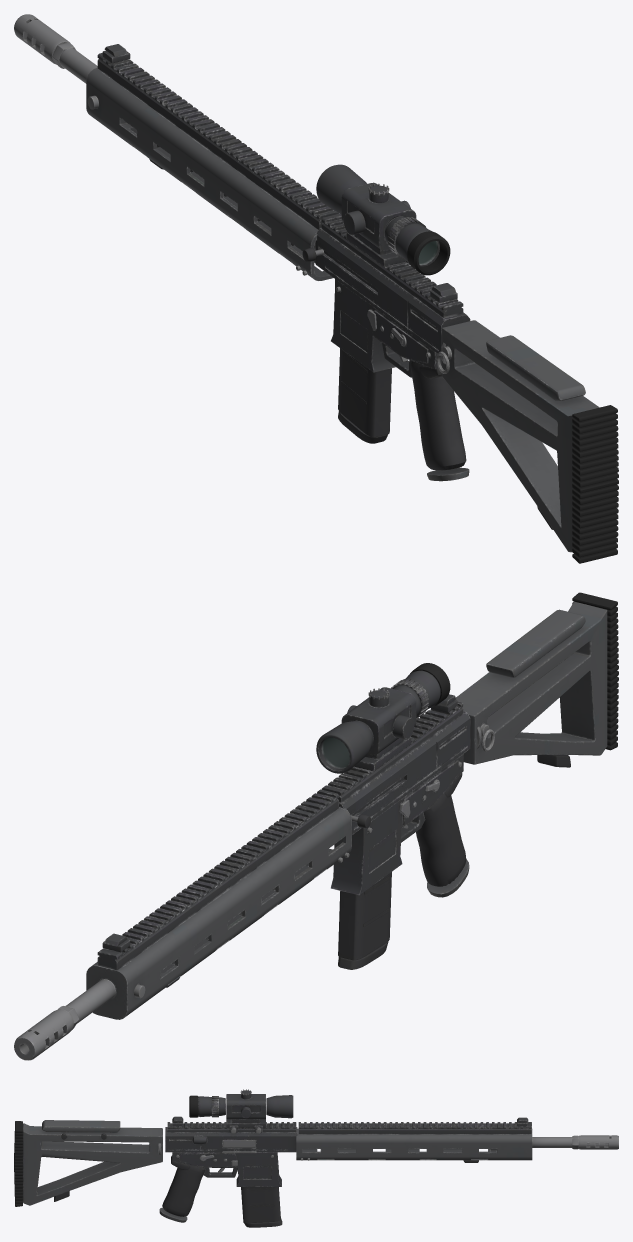
Rendered from beichen.glb.
3 renders of one model, top to bottom at view 1: azimuth 30°, elevation 25°; view 2: azimuth 150°, elevation 25°; view 3: azimuth 270°, elevation 25°, orthographic. The views are drawn at different scales.
Parts seen in each view (by area): view 1: body, magazine; view 2: body, magazine; view 3: body, magazine, bolt.
Boxes of the visible parts, x1,y1,x2,y2 form: body: (14,14,618,563); magazine: (338,348,391,443); body: (14,592,618,1060); magazine: (338,872,391,969); body: (14,1089,618,1222); magazine: (241,1187,282,1227); bolt: (223,1140,255,1147).
Bounding box in the file's own units: 0.064 × 0.2598 × 1.06.
Materials: 2 (1 with a texture image).
